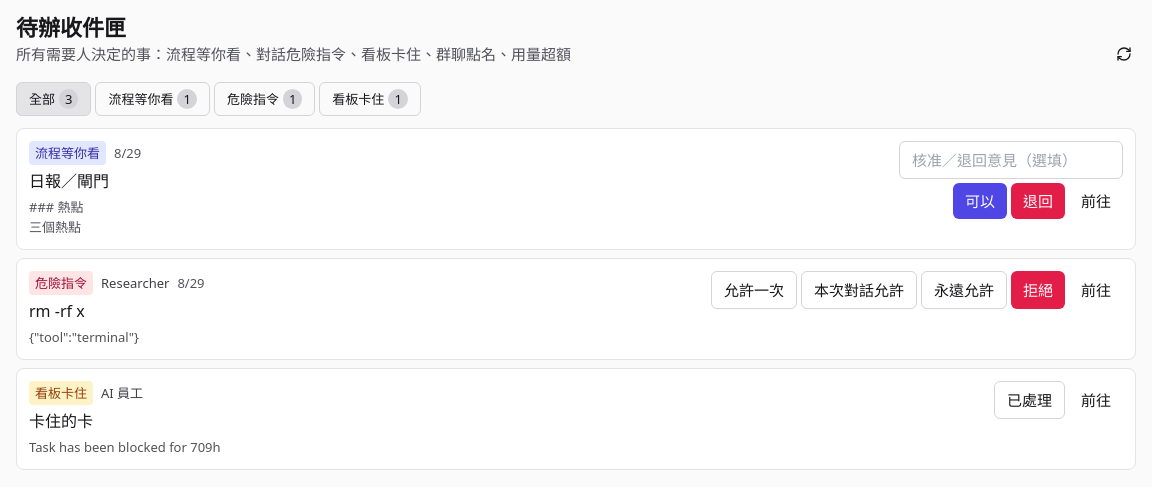
Test case: InboxPage › 聚合顯示三種待辦與計數；種類篩選
Expected: the text "日報／閘門" is shown, top-left (29, 170), bottom-right (109, 192)
Expected: the text "rm -rf x" is shown, top-left (29, 300), bottom-right (85, 322)
Click the button with test id "filter-chat_approval" at (265, 99), box top-left (214, 82), bottom-right (315, 116)
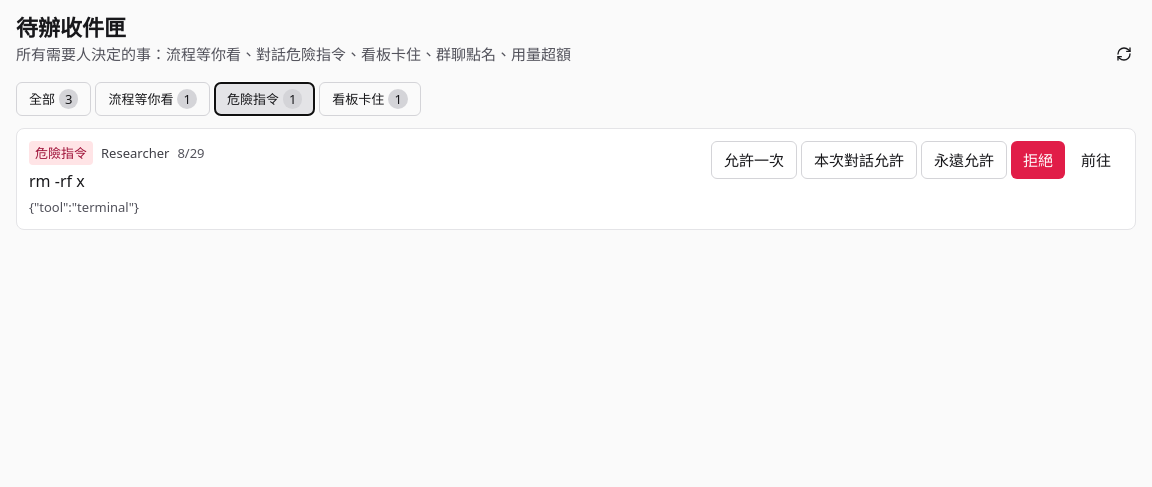
Expected: the text "rm -rf x" is shown, top-left (29, 170), bottom-right (85, 192)
Expected: the text "日報／閘門" is gone
